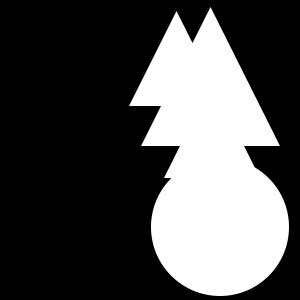rectangle: (151, 158, 289, 296)
triangle: (141, 7, 280, 146), (164, 82, 260, 178), (129, 11, 224, 106)
